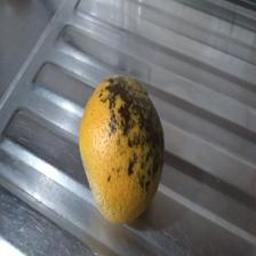Orange Semirotten: (69, 74, 176, 225)
